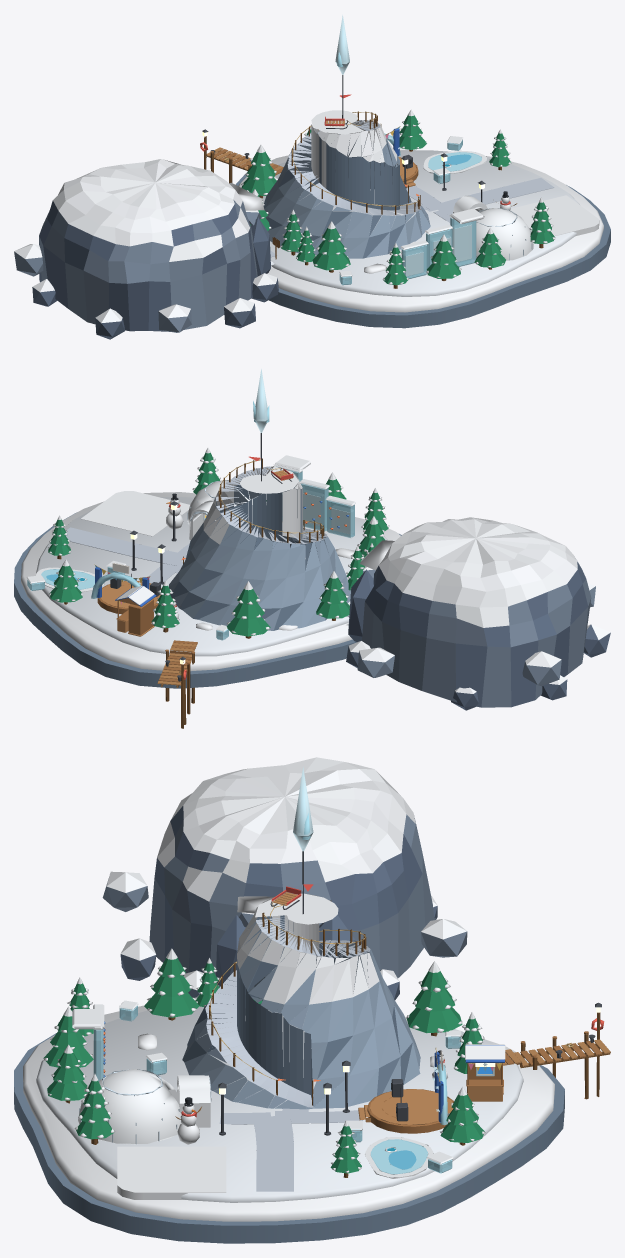
Rendered from pico-media.glb.
The picture shows the model from 3 angles, top to bottom: view 1: azimuth 30°, elevation 25°; view 2: azimuth 150°, elevation 25°; view 3: azimuth 270°, elevation 25°; orthographic projection. The views are drawn at different scales.
Visible parts, largest first — view 1: ilha-media; view 2: ilha-media; view 3: ilha-media.
Part boxes in pixels (left/top/right/bottom): ilha-media: left=14, top=15, right=610, bottom=339; ilha-media: left=14, top=369, right=610, bottom=728; ilha-media: left=14, top=757, right=610, bottom=1243.
Size of the model in its own units: 45.05 by 20.7 by 31.82.
